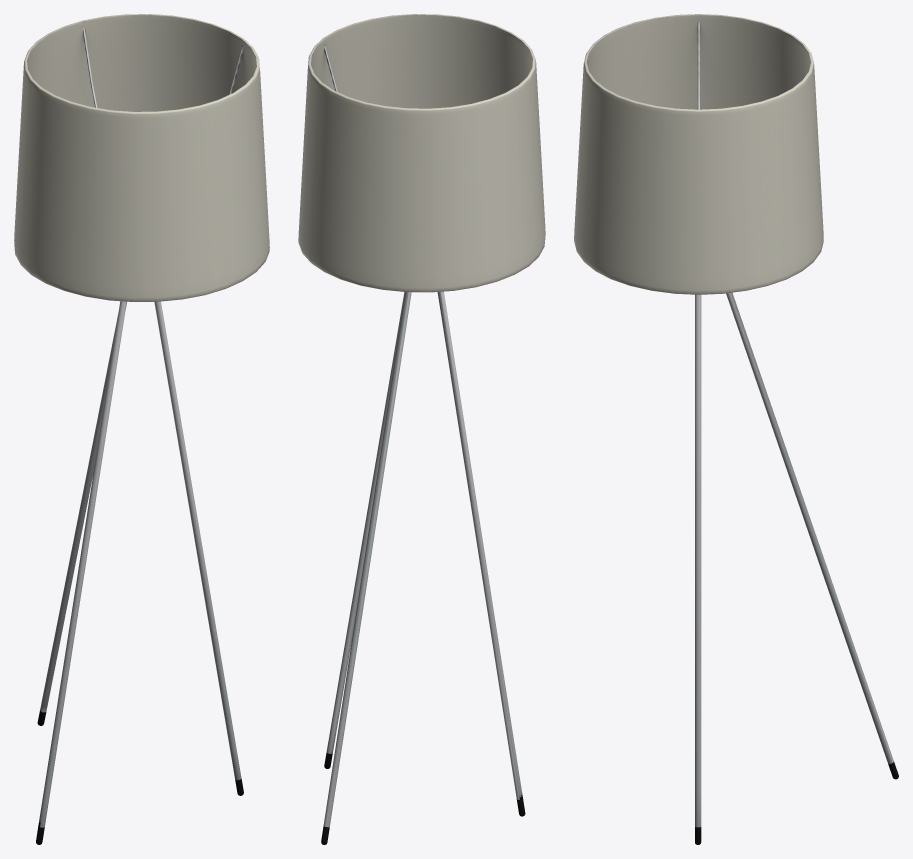
The model's file is floor_lamp.glb.
3 renders of one model, left to right at view 1: azimuth 30°, elevation 25°; view 2: azimuth 150°, elevation 25°; view 3: azimuth 270°, elevation 25°, orthographic. The views are drawn at different scales.
Visible parts, largest first — view 1: mesh_0; view 2: mesh_0; view 3: mesh_0.
Boxes of the visible parts, left/top/right/bottom form: mesh_0: left=14, top=14, right=269, bottom=844; mesh_0: left=298, top=14, right=545, bottom=844; mesh_0: left=574, top=14, right=898, bottom=844.
Size of the model in its own units: 0.444 by 1.44 by 0.5775.
Materials: 1 (1 with a texture image).
